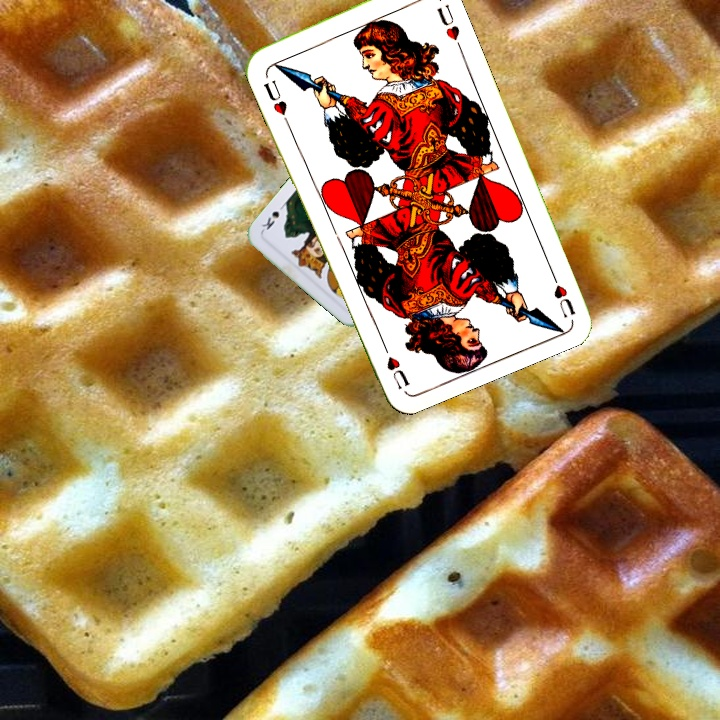HU: (545, 264, 578, 320), (259, 75, 290, 118)
